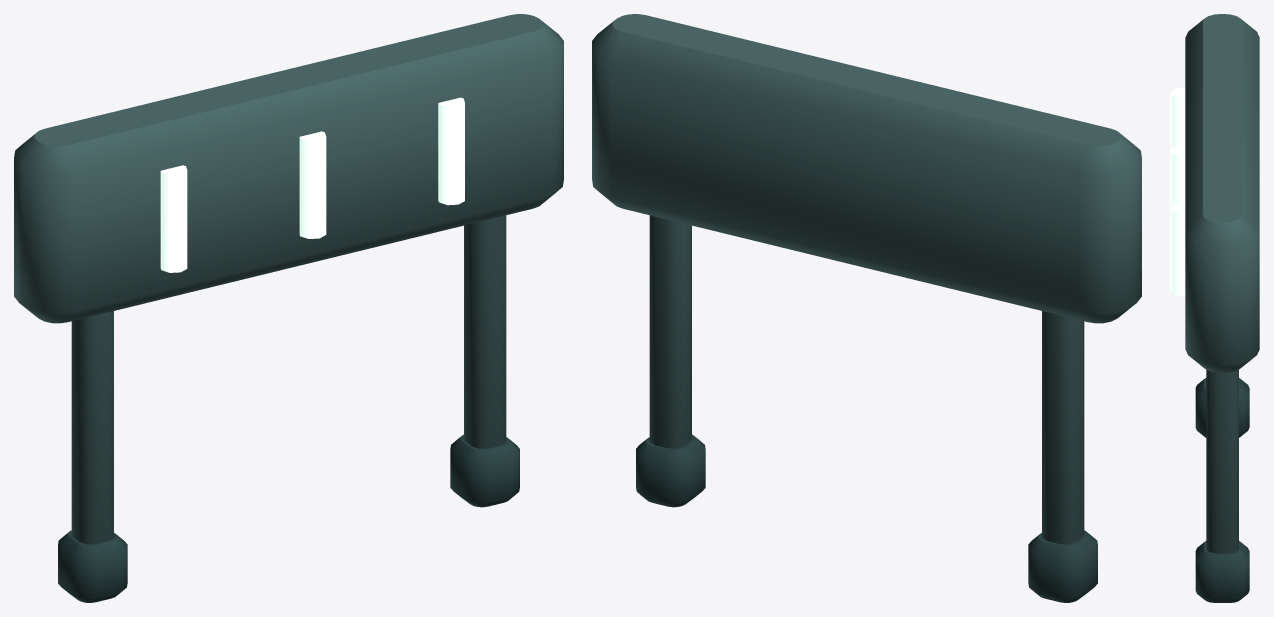
The model's file is charge_works_4.glb.
The picture shows the model from 3 angles, left to right: view 1: azimuth 30°, elevation 25°; view 2: azimuth 150°, elevation 25°; view 3: azimuth 270°, elevation 25°; orthographic projection. The views are drawn at different scales.
Parts seen in each view (by area): view 1: ChargeWorks4; view 2: ChargeWorks4; view 3: ChargeWorks4.
Boxes of the visible parts, x1,y1,x2,y2 form: ChargeWorks4: (14, 14, 563, 602); ChargeWorks4: (592, 14, 1141, 602); ChargeWorks4: (1170, 14, 1259, 602).
Bounding box in the file's own units: 1.78 × 1.48 × 0.301.
